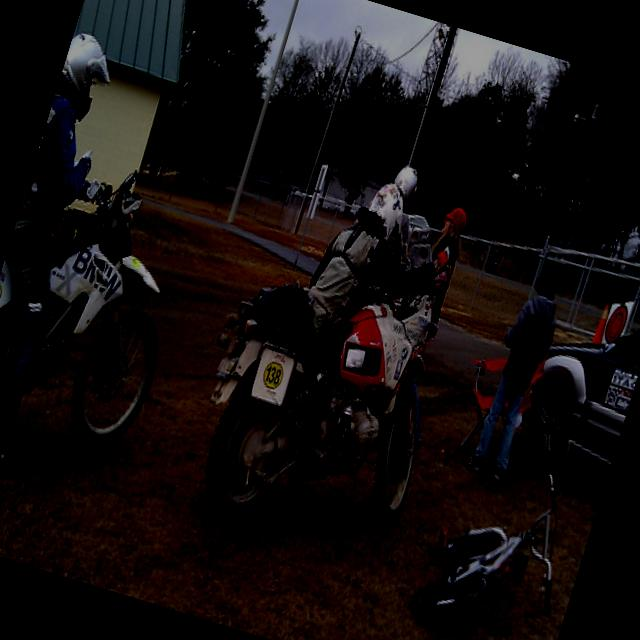Vehicle: (172, 239, 466, 566), (0, 155, 204, 499), (507, 270, 640, 490)
